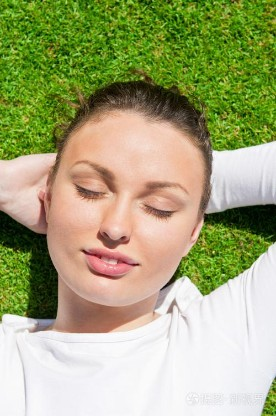闭眼: (63, 171, 106, 205), (138, 189, 179, 219)
